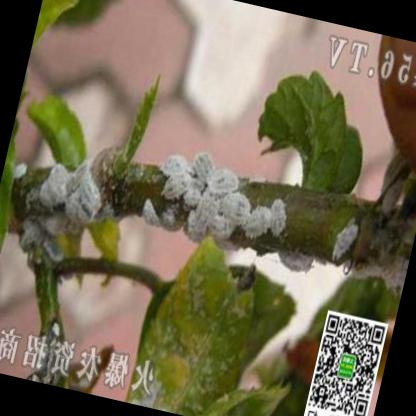mealy bug: (63, 176, 101, 226), (222, 192, 251, 227), (246, 208, 273, 238), (163, 172, 192, 199), (193, 151, 216, 184), (210, 169, 239, 193), (160, 156, 190, 176)
